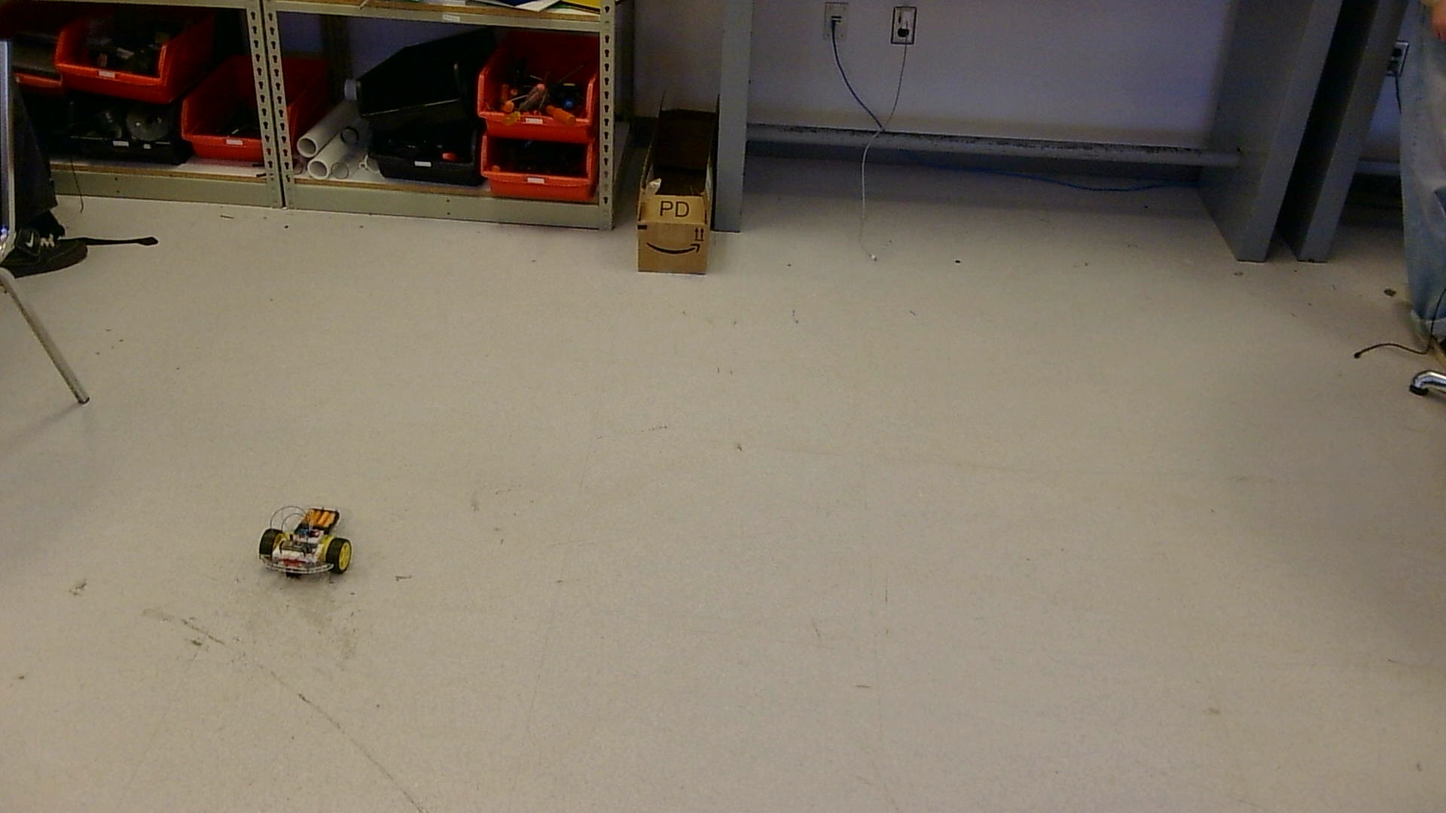robot: (258, 507, 351, 576)
